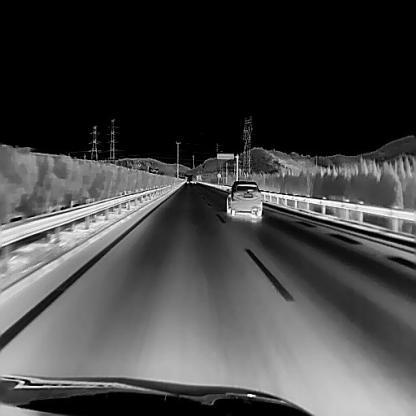car: (224, 180, 262, 216), (191, 175, 196, 183)
